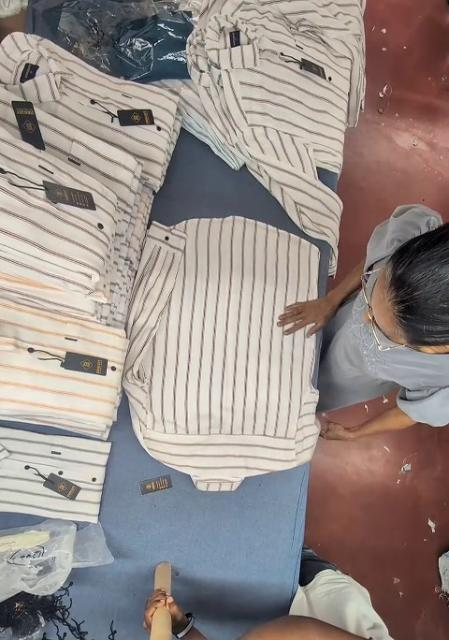new-garment: (124, 217, 319, 489)
